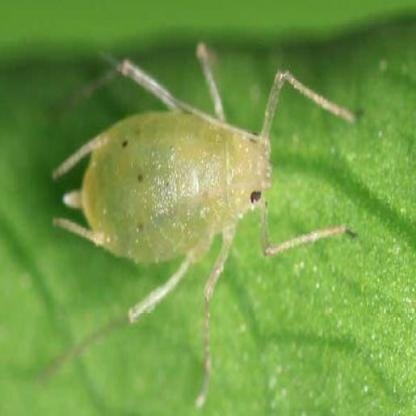aphid: (44, 51, 352, 332)
